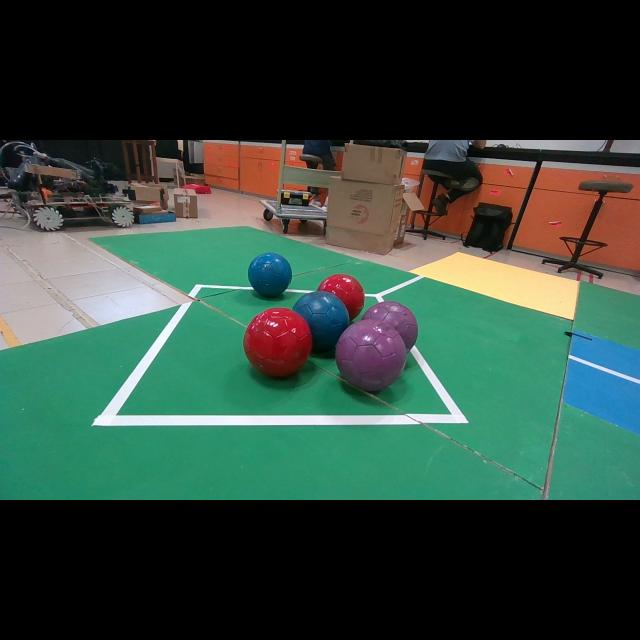B: (292, 291, 349, 352), (248, 252, 292, 298)
P: (335, 319, 406, 391), (362, 301, 418, 351)
R: (242, 308, 312, 377), (318, 274, 365, 319)
